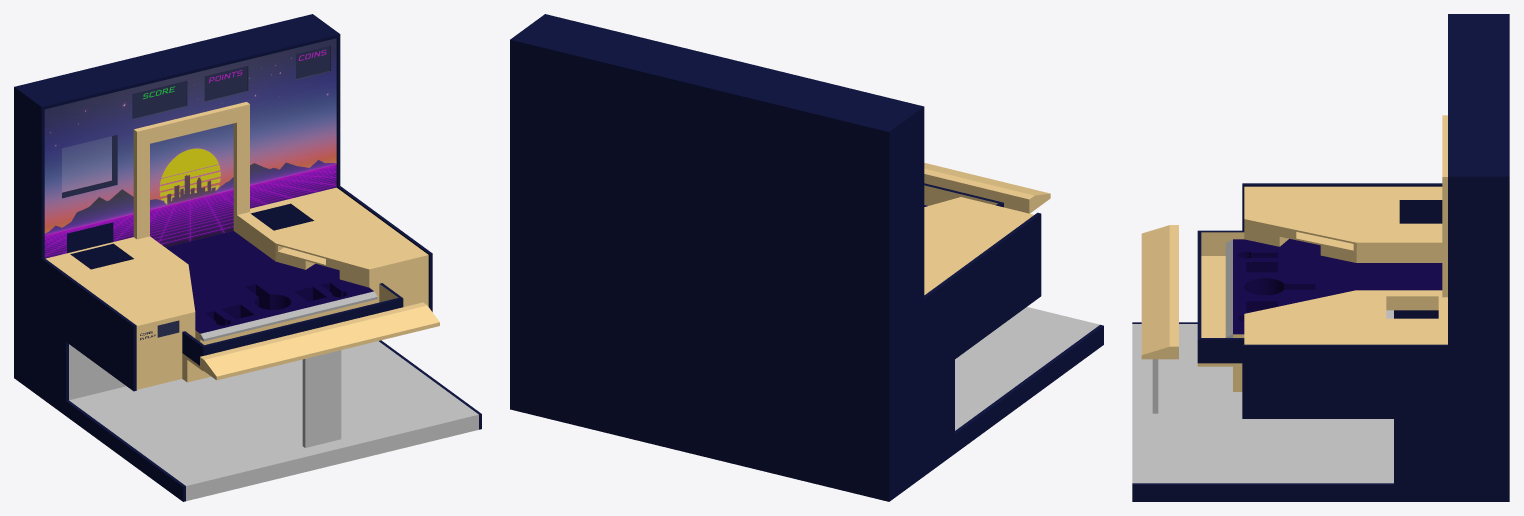
Rendered from cabinet.glb.
3 views of the same model, side by side, from view 1: azimuth 30°, elevation 25°; view 2: azimuth 150°, elevation 25°; view 3: azimuth 270°, elevation 25° (orthographic). The views are drawn at different scales.
Parts seen in each view (by area): view 1: cabinet, glass-support; view 2: cabinet; view 3: cabinet, glass-support.
Boxes of the visible parts, <box> form: cabinet: <box>14,14,481,501</box>; glass-support: <box>133,102,249,239</box>; cabinet: <box>510,14,1103,501</box>; cabinet: <box>1132,14,1509,501</box>; glass-support: <box>1442,115,1447,297</box>.
Size of the model in its own units: 2.06 by 1.92 by 2.02.
14 materials, 1 textured.
